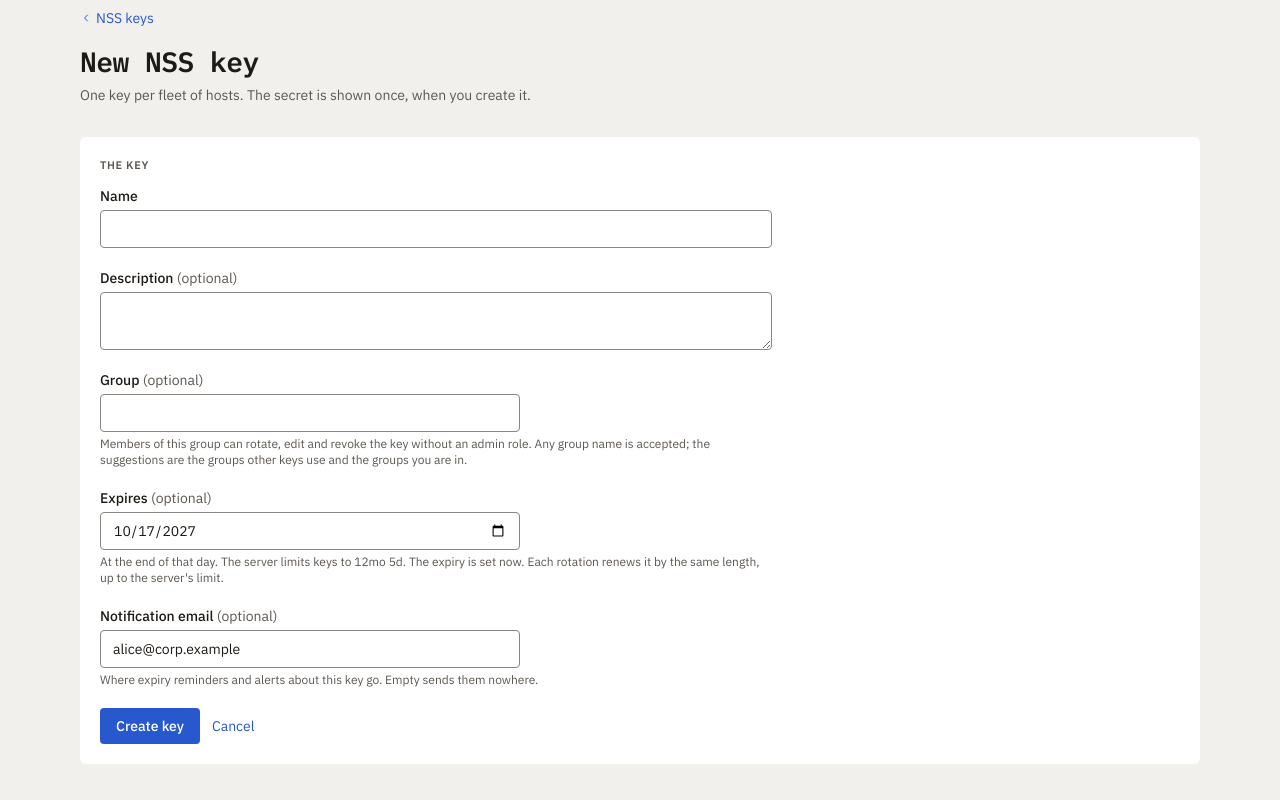
New NSS key › proposed expiry › should refuse a typed day past the limit without asking the server
Step 1. Type "2030-01-01" into the date field with test id "nss-key-expires" → (310, 530), box top-left (100, 512), bottom-right (520, 550)
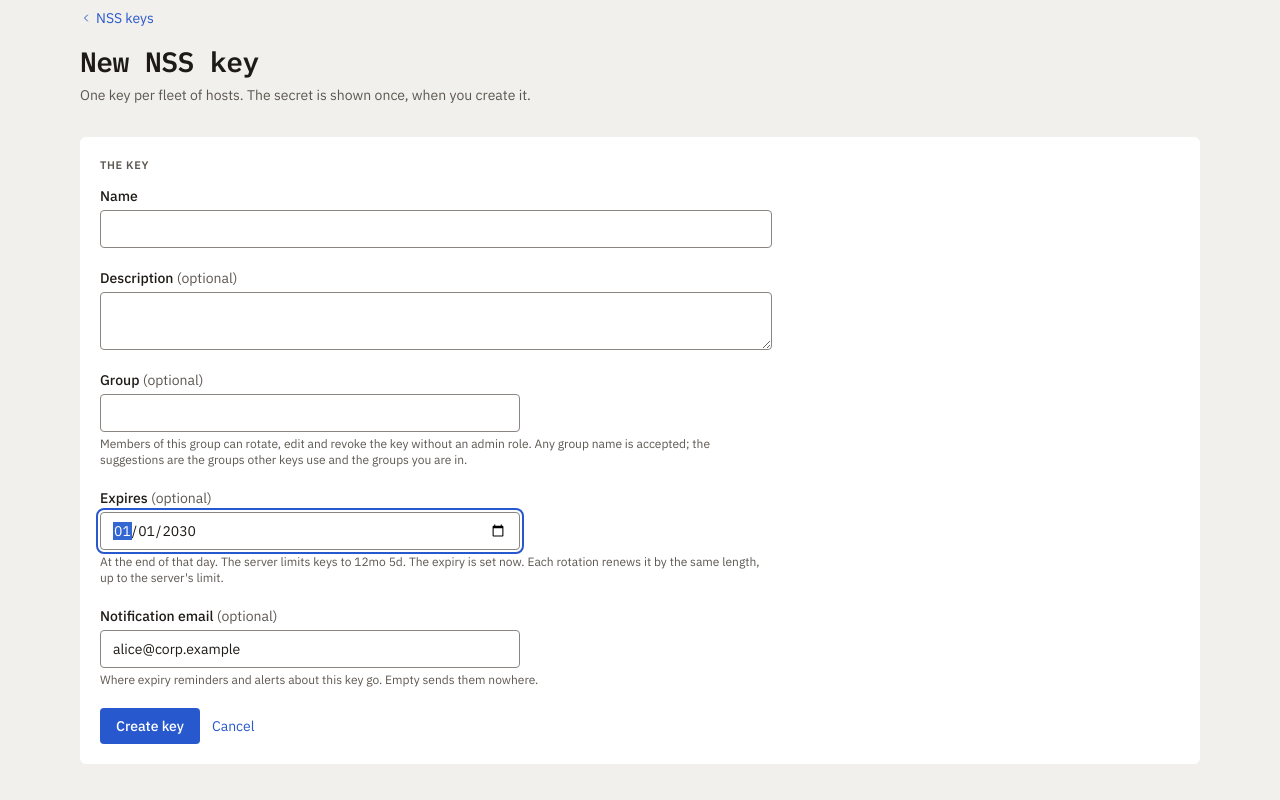
Step 2. Type "web fleet" into the field with test id "nss-key-name" → (436, 228), box top-left (100, 210), bottom-right (772, 248)
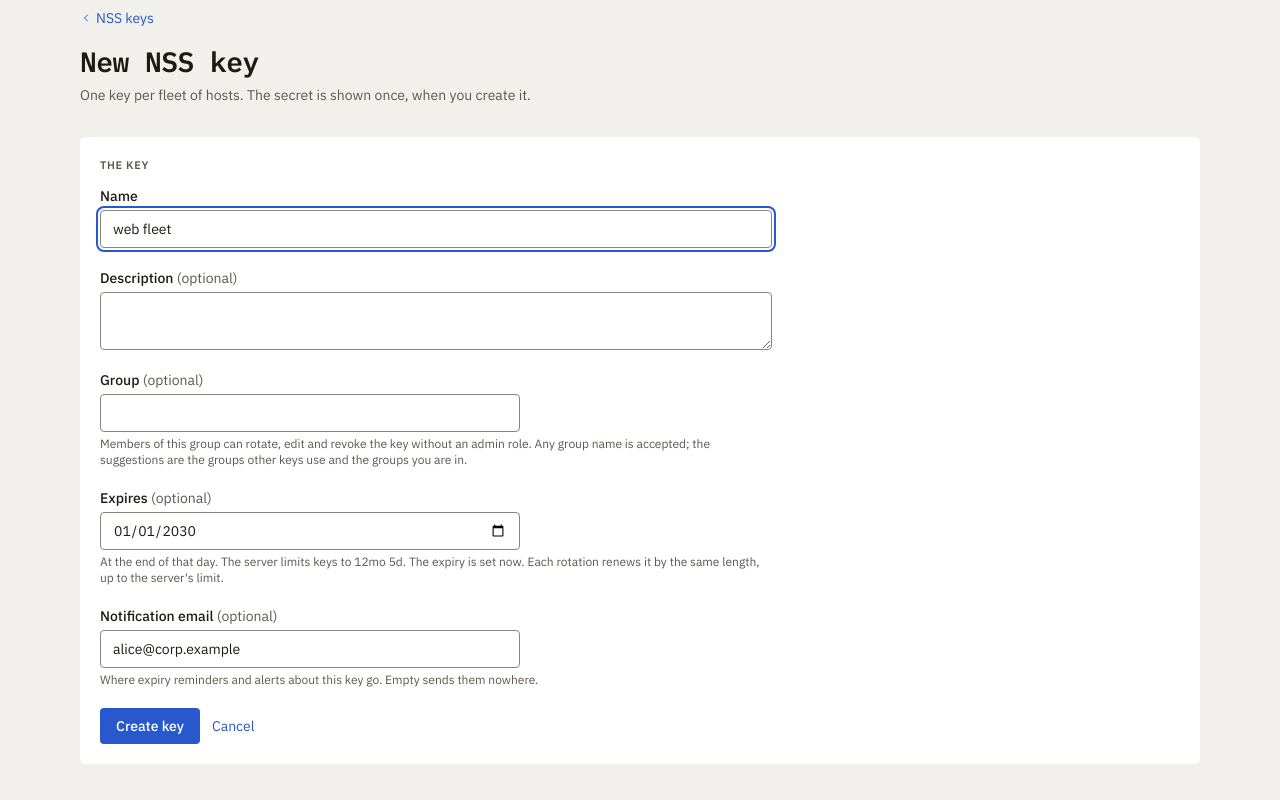
Step 3. Click the button with test id "nss-key-create" → (150, 726), box top-left (100, 708), bottom-right (200, 744)
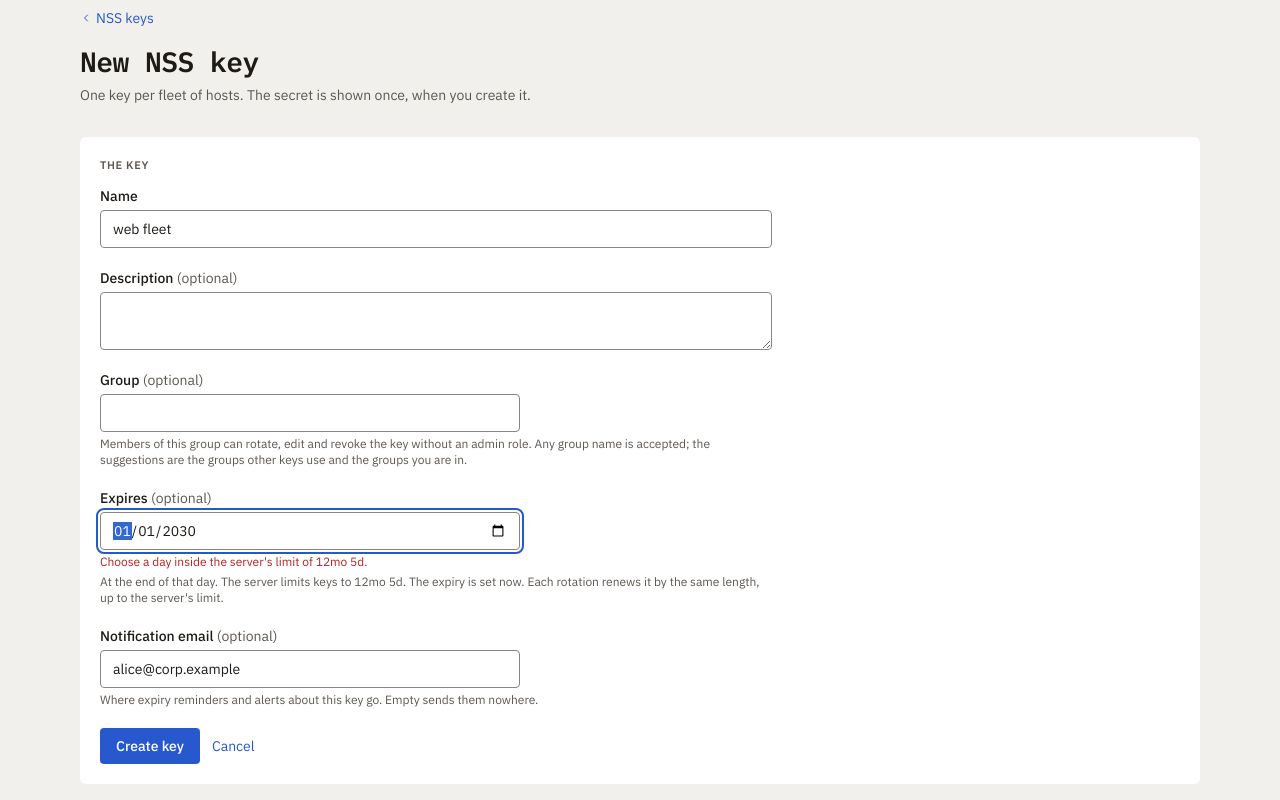
Check: the text "Choose a day inside the server's limit of 12mo 5d." is shown, box top-left (100, 554), bottom-right (368, 568)
